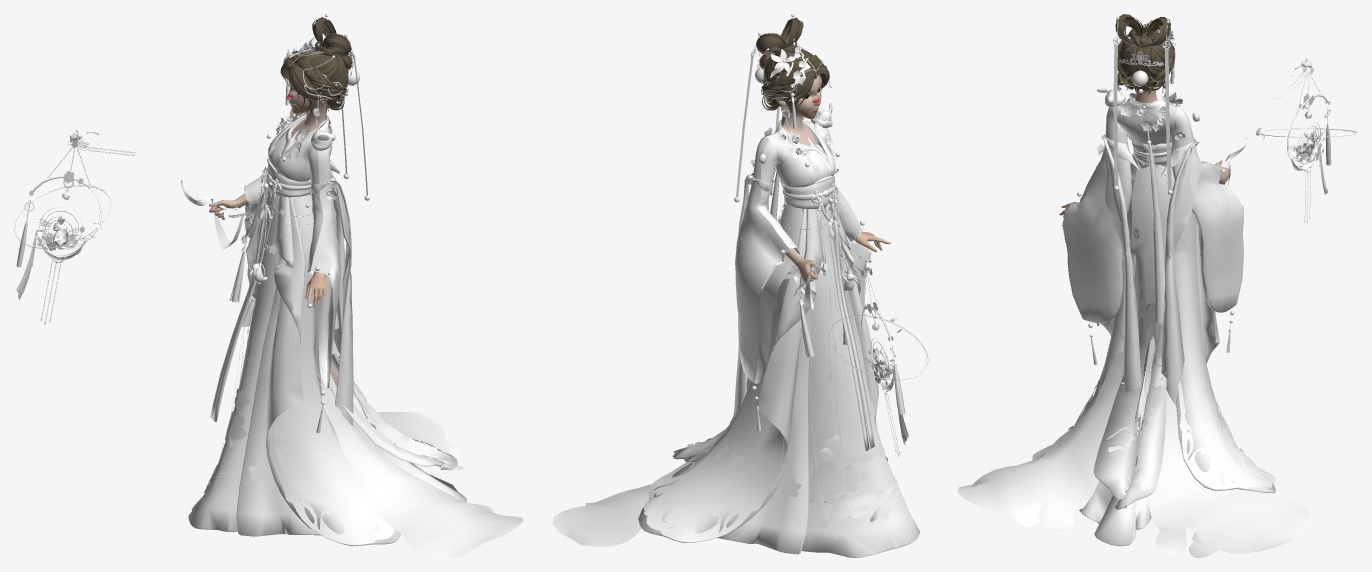
Rendered from Doudizhu_Nv01.fbx.
3 renders of one model, left to right at view 1: azimuth 30°, elevation 25°; view 2: azimuth 150°, elevation 25°; view 3: azimuth 270°, elevation 25°, orthographic. The views are drawn at different scales.
Parts seen in each view (by area): view 1: Nv01_Cloth_03, Nv01_Cloth_04, Nv01_Cloth_02, Nv01_ClothOrnament, Nv01_Cloth_01, Nv01_HandOrnament, Nv01_Hair, Nv01_HeadOrnament, Nv01_Hand; view 2: Nv01_Cloth_03, Nv01_Cloth_04, Nv01_ClothOrnament, Nv01_Cloth_02, Nv01_Cloth_01, Nv01_Hair, Nv01_HandOrnament, Nv01_HeadOrnament, Nv01_Hand, Nv01_Head, Nv01_Body; view 3: Nv01_Cloth_02, Nv01_Cloth_03, Nv01_Cloth_04, Nv01_ClothOrnament, Nv01_Hair, Nv01_Cloth_01, Nv01_HandOrnament, Nv01_HeadOrnament.
Boxes of the visible parts, x1=… form: Nv01_Cloth_03: x1=188, y1=192, x2=523, y2=557; Nv01_Cloth_04: x1=246, y1=189, x2=457, y2=546; Nv01_Cloth_02: x1=239, y1=108, x2=353, y2=433; Nv01_ClothOrnament: x1=203, y1=114, x2=451, y2=544; Nv01_Cloth_01: x1=210, y1=112, x2=331, y2=422; Nv01_HandOrnament: x1=14, y1=130, x2=255, y2=324; Nv01_Hair: x1=280, y1=17, x2=351, y2=118; Nv01_HeadOrnament: x1=283, y1=14, x2=369, y2=200; Nv01_Hand: x1=209, y1=193, x2=326, y2=307; Nv01_Cloth_03: x1=552, y1=206, x2=919, y2=557; Nv01_Cloth_04: x1=638, y1=203, x2=878, y2=542; Nv01_ClothOrnament: x1=644, y1=119, x2=899, y2=541; Nv01_Cloth_02: x1=733, y1=117, x2=871, y2=430; Nv01_Cloth_01: x1=751, y1=120, x2=874, y2=450; Nv01_Hair: x1=756, y1=17, x2=831, y2=119; Nv01_HandOrnament: x1=784, y1=254, x2=928, y2=456; Nv01_HeadOrnament: x1=734, y1=14, x2=823, y2=202; Nv01_Hand: x1=765, y1=231, x2=890, y2=282; Nv01_Head: x1=787, y1=73, x2=821, y2=118; Nv01_Body: x1=767, y1=106, x2=816, y2=146; Nv01_Cloth_02: x1=1062, y1=92, x2=1243, y2=405; Nv01_Cloth_03: x1=957, y1=263, x2=1310, y2=557; Nv01_Cloth_04: x1=1038, y1=153, x2=1275, y2=509; Nv01_ClothOrnament: x1=1032, y1=98, x2=1276, y2=504; Nv01_Hair: x1=1115, y1=14, x2=1175, y2=95; Nv01_Cloth_01: x1=1077, y1=98, x2=1234, y2=337; Nv01_HandOrnament: x1=1223, y1=58, x2=1357, y2=222; Nv01_HeadOrnament: x1=1112, y1=17, x2=1177, y2=194.
Size of the model in its own units: 168 by 205 by 157.
